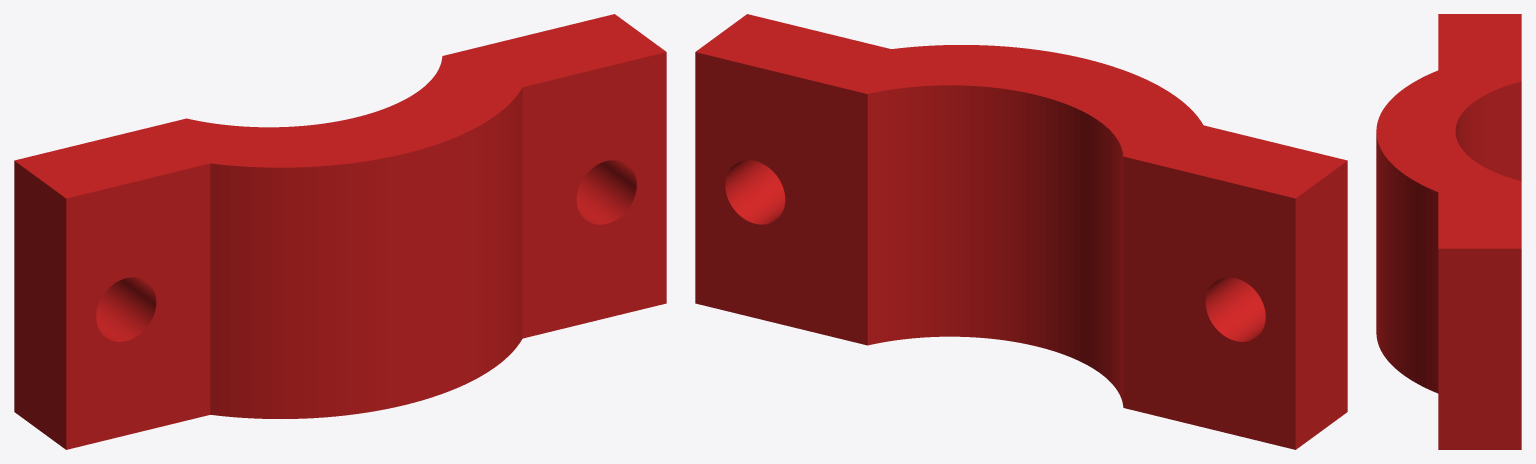
File: 3_colored.obj
3 views of the same model, side by side, from view 1: azimuth 30°, elevation 25°; view 2: azimuth 150°, elevation 25°; view 3: azimuth 270°, elevation 25° (orthographic). The views are drawn at different scales.
Size of the model in its own units: 0.1 by 0.04 by 0.0261.
